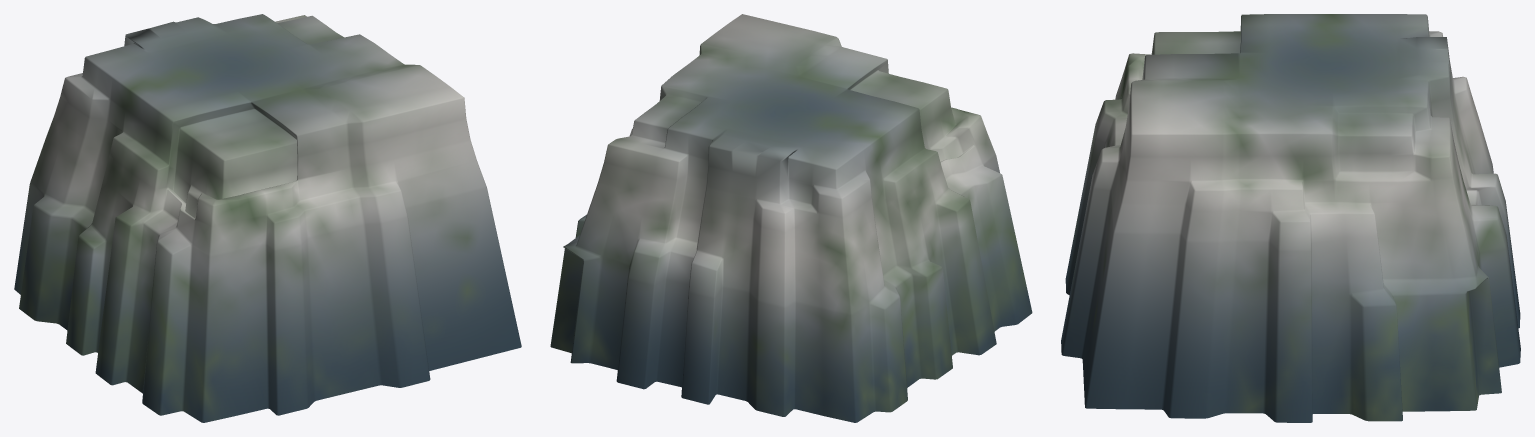
Rendered from Land Rock2.fbx.
3 renders of one model, left to right at view 1: azimuth 30°, elevation 25°; view 2: azimuth 150°, elevation 25°; view 3: azimuth 270°, elevation 25°, orthographic. The views are drawn at different scales.
Parts seen in each view (by area): view 1: Cube; view 2: Cube; view 3: Cube.
Boxes of the visible parts, x1,y1,x2,y2 form: Cube: (14, 14, 521, 422); Cube: (550, 14, 1032, 422); Cube: (1061, 14, 1520, 422).
Size of the model in its own units: 163 by 101 by 163.
